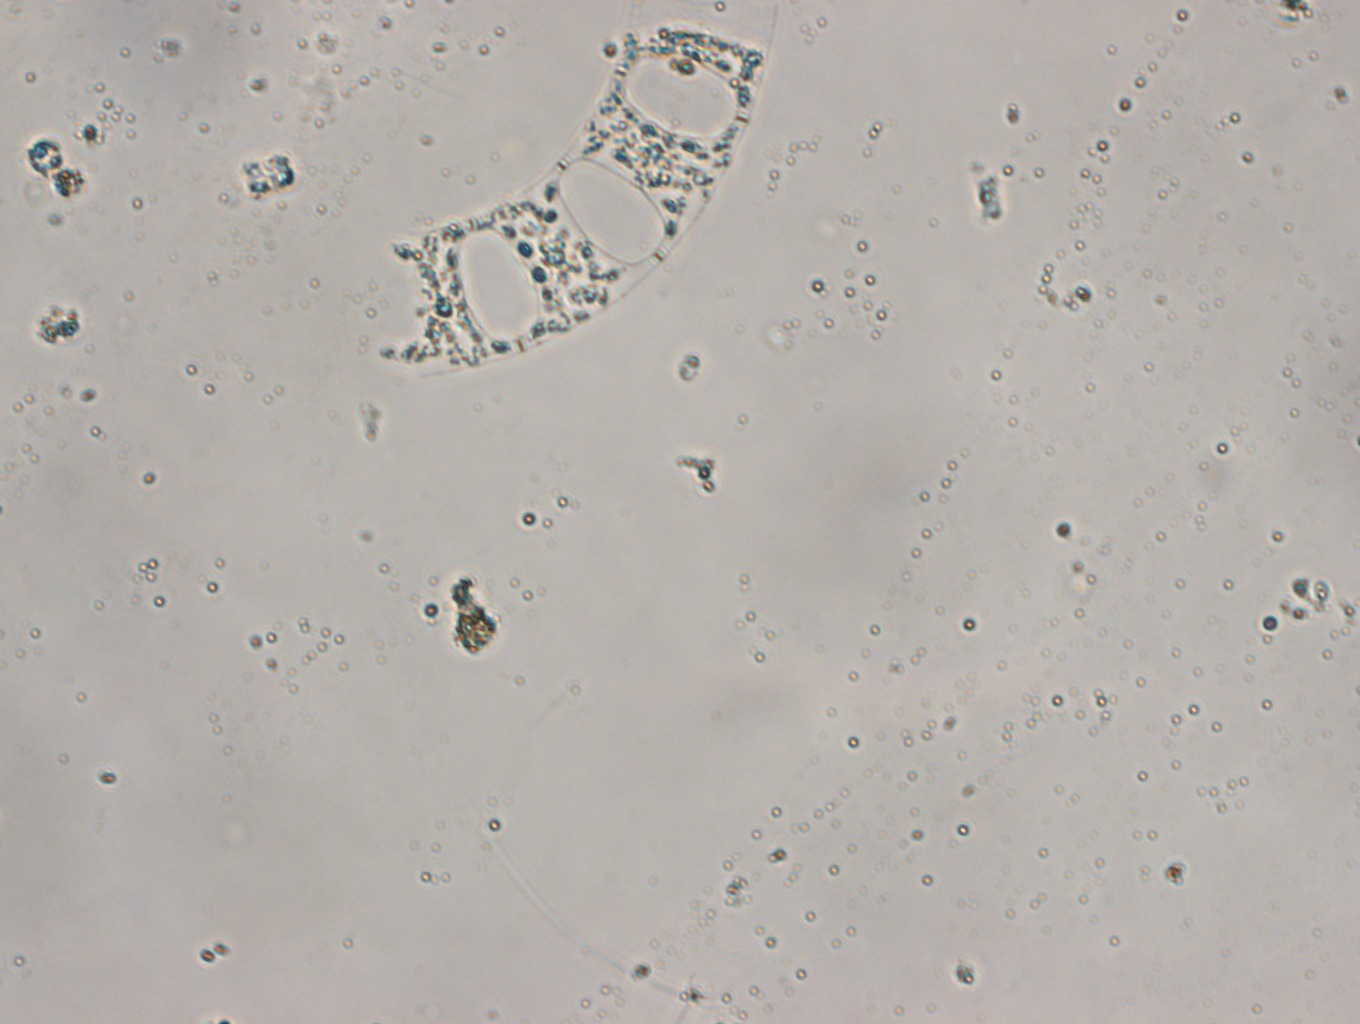eucampia: (368, 1, 785, 384)
